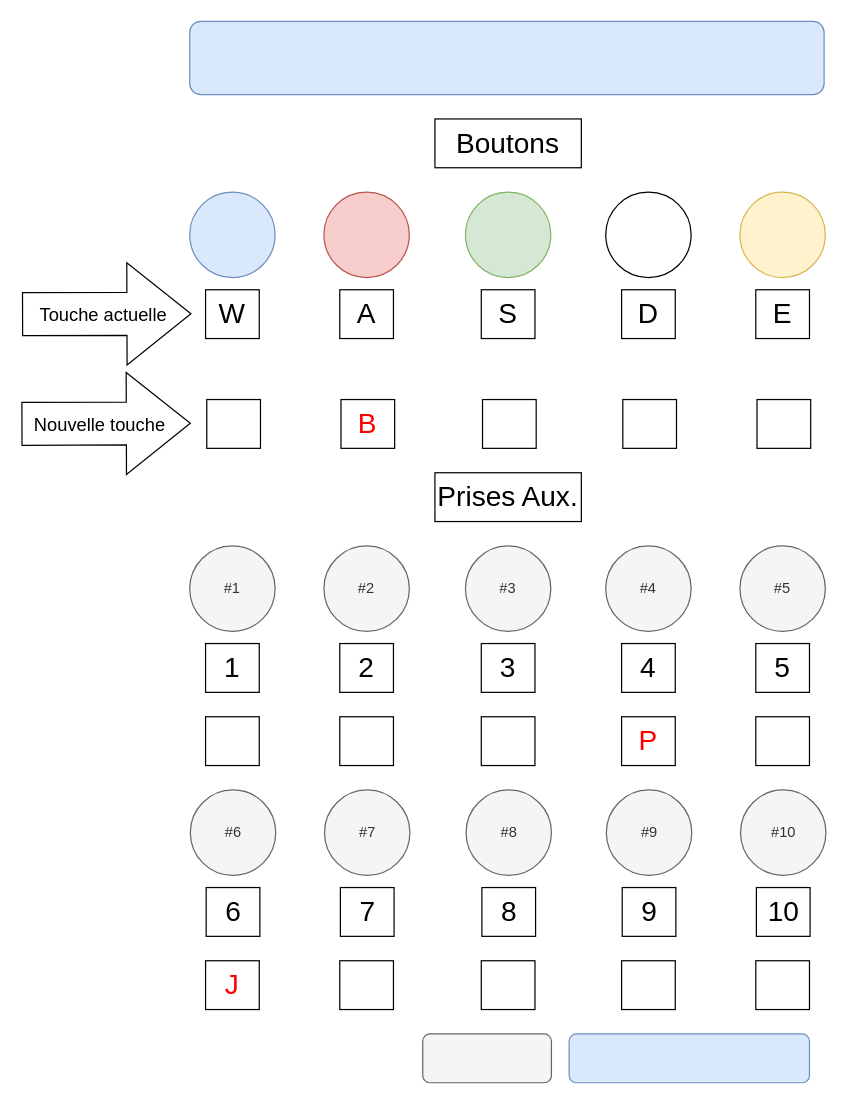
The diagram is 848 pixels wide and 1104 high, and some of its shapes have lost their labels. The centre of each missing label's shape, as x and y in pixels:
Annuler: the point at 486,1058
Configuration de la manette: the point at 506,57
Enregistrer les modifications: the point at 688,1058
